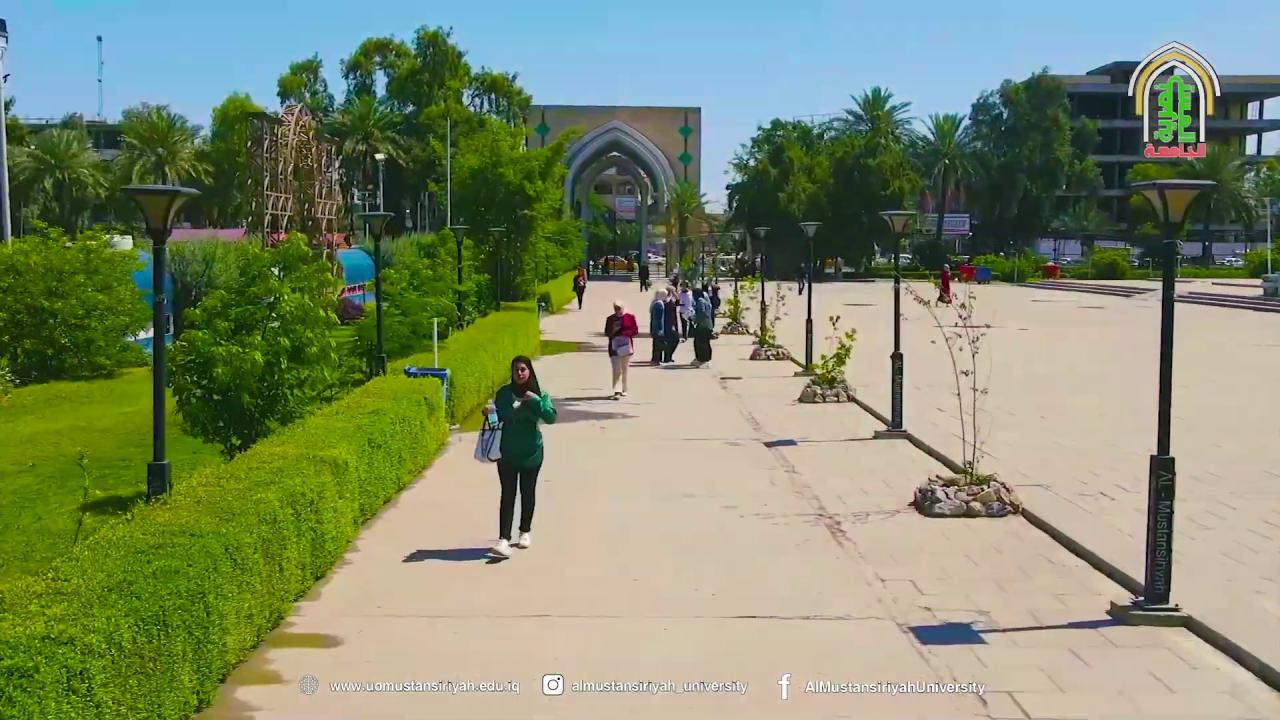car: (1213, 254, 1245, 266)
person: (481, 355, 557, 557), (604, 301, 638, 398), (572, 264, 586, 310), (938, 263, 952, 305), (796, 261, 807, 295), (834, 256, 844, 280)
tree: (721, 66, 1105, 276), (164, 228, 364, 460), (339, 22, 532, 230), (904, 263, 1021, 518), (960, 66, 1102, 265), (3, 217, 155, 394), (446, 115, 585, 306), (722, 116, 833, 278), (1124, 140, 1263, 269), (775, 119, 884, 274), (233, 102, 348, 247), (106, 101, 212, 235), (824, 84, 921, 211), (7, 122, 112, 237), (906, 109, 980, 245), (319, 92, 405, 209), (204, 89, 270, 229), (1048, 114, 1105, 266), (514, 205, 587, 307), (651, 178, 715, 273), (276, 51, 336, 121), (1250, 156, 1279, 274)
